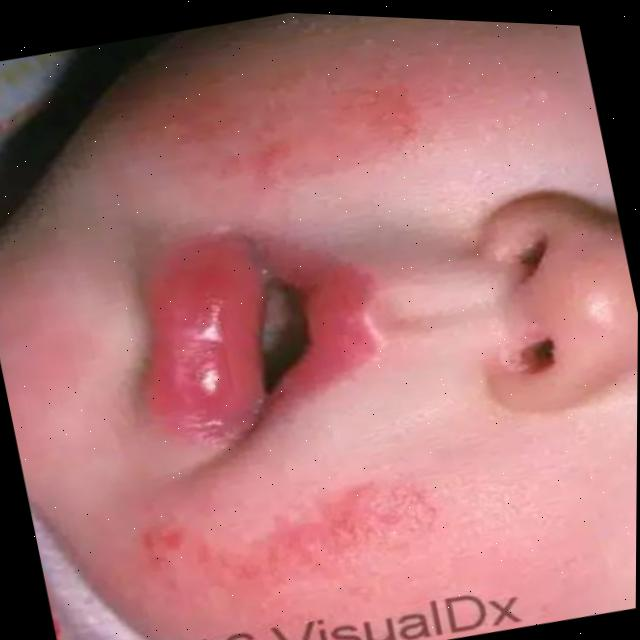Eczema: (137, 11, 425, 236), (144, 469, 460, 640)
